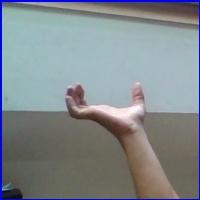space: (59, 77, 152, 142)
